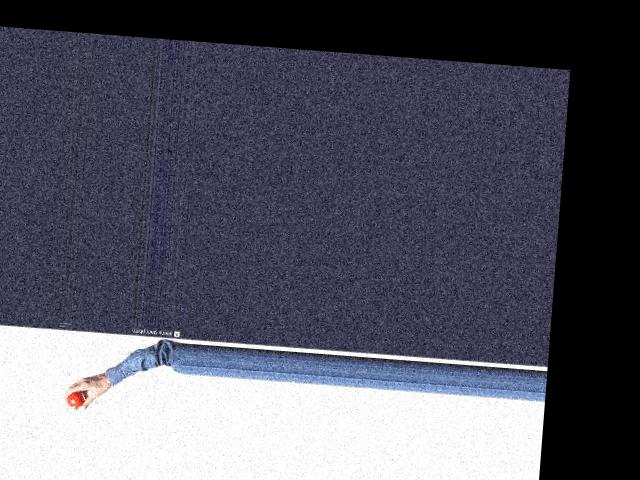tomato: (66, 391, 84, 407)
